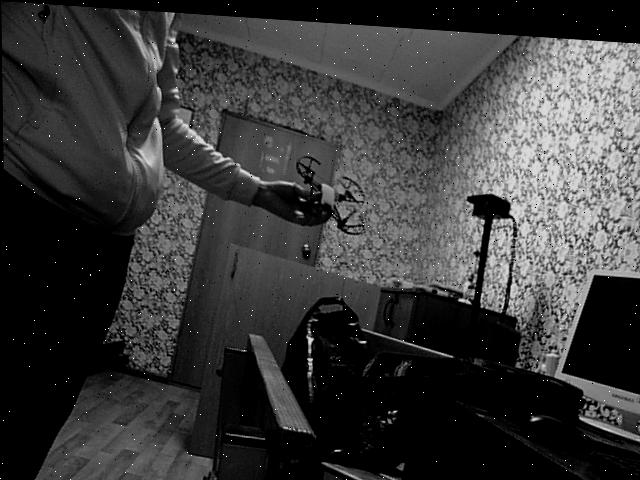drone: (282, 148, 369, 236)
